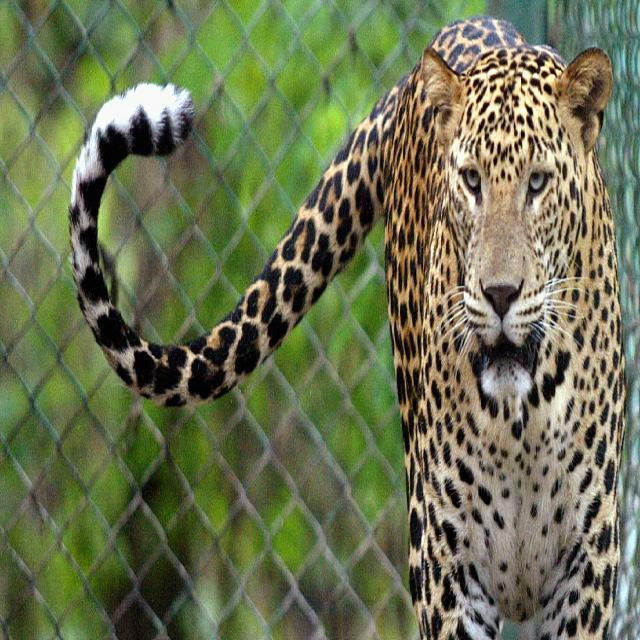Leopard: (70, 18, 640, 640)
